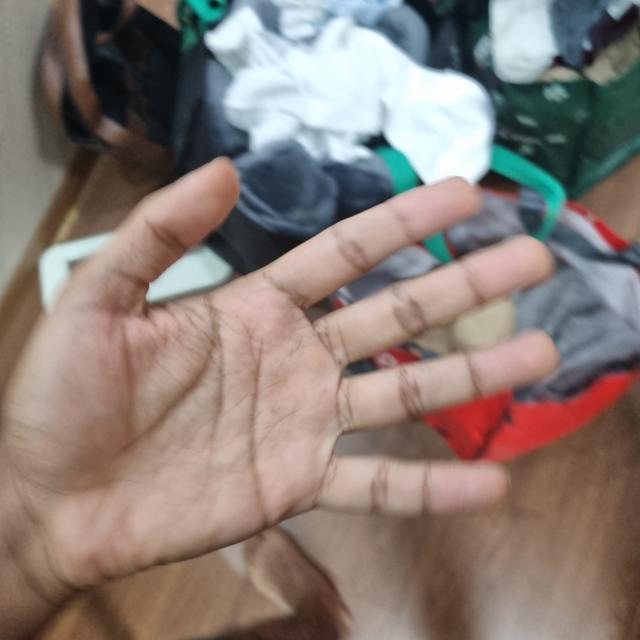Paper: (0, 166, 553, 630)
